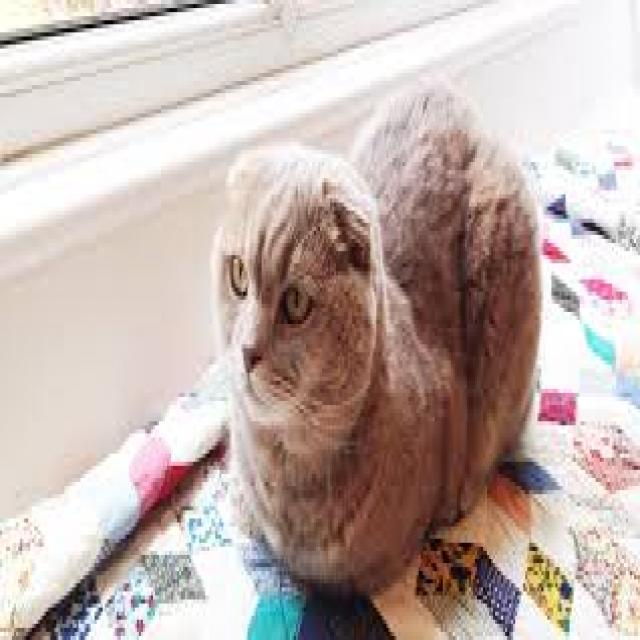cat: (212, 71, 550, 587)
